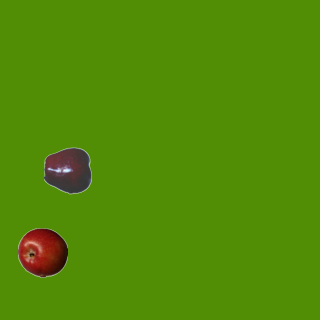Apple Braeburn: (17, 227, 67, 277)
Apple Red Delicious: (43, 145, 93, 195)
